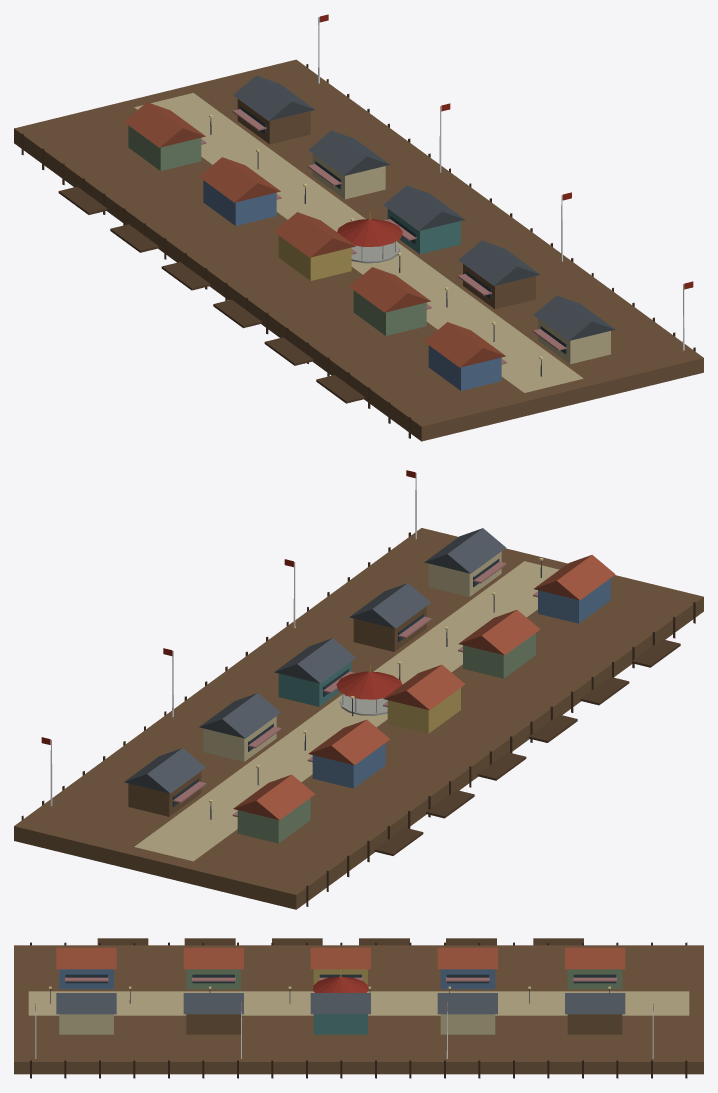
File: desktop.glb
The picture shows the model from 3 angles, top to bottom: view 1: azimuth 30°, elevation 25°; view 2: azimuth 150°, elevation 25°; view 3: azimuth 270°, elevation 25°; orthographic projection. The views are drawn at different scales.
Parts seen in each view (by area): view 1: lm.pier-39; view 2: lm.pier-39; view 3: lm.pier-39.
Boxes of the visible parts, left/top/right/bottom form: lm.pier-39: left=14, top=14, right=703, bottom=441; lm.pier-39: left=14, top=470, right=703, bottom=909; lm.pier-39: left=14, top=938, right=703, bottom=1078.
Size of the model in its own units: 83.6 by 21.9 by 190.
